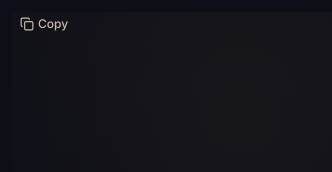
Test case: CopyButton › copies value and shows success state on click
The image size is (332, 172).
Click the button at (44, 24), box [12,12,76,36]
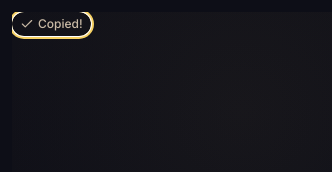
expect the text "Copied!" is shown: met, box [38,16,83,32]
